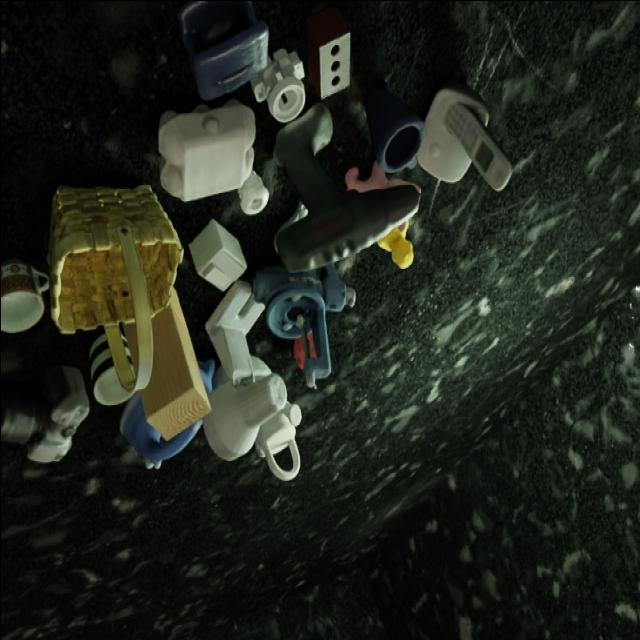Other Objects: (89, 332, 201, 467), (417, 85, 512, 189), (158, 100, 255, 200), (179, 1, 268, 100), (1, 365, 89, 461), (365, 83, 423, 171), (305, 5, 350, 97), (189, 219, 246, 291), (251, 48, 304, 121), (1, 259, 48, 332), (377, 221, 413, 268), (237, 169, 269, 213), (200, 360, 214, 391)
